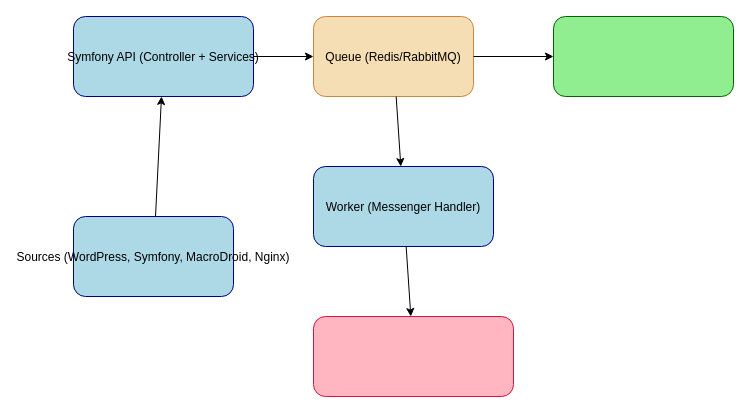
Image size: 750x413. Some labels were removed from this diagram. The shapes that lost their labels are listed below. From the top down, each one's centre as x and y in pixels, then its label:
the point at 643,56: MariaDB (Partitions mensuelles)
the point at 413,356: Frontend (Vue Explore / Dashboard)
